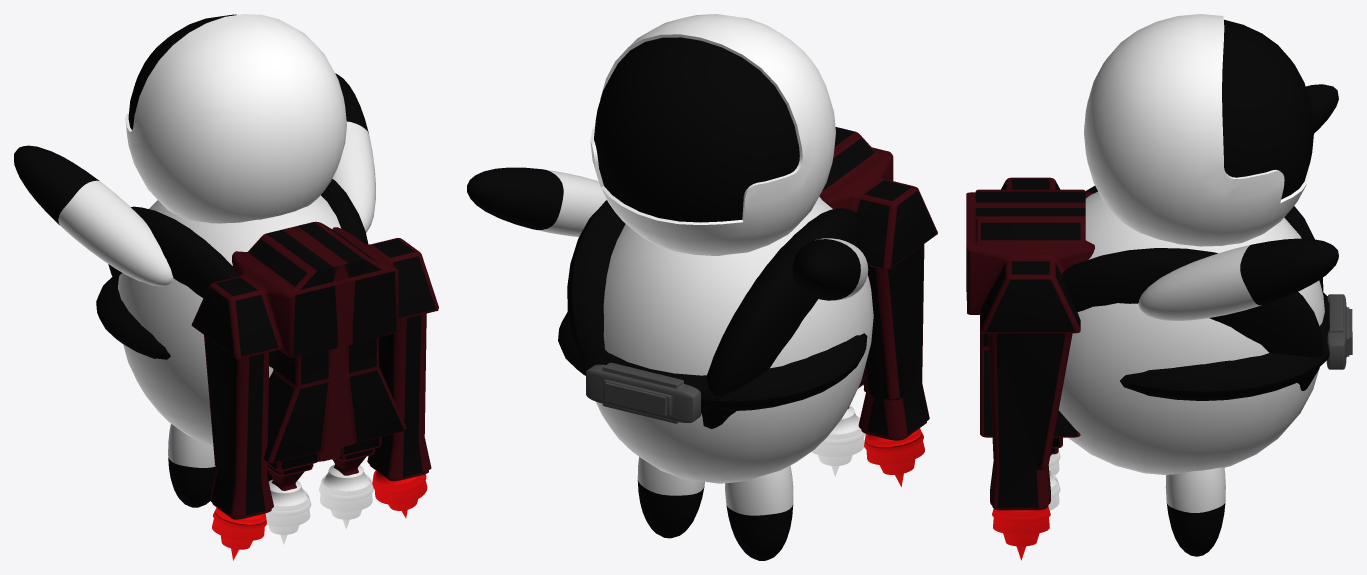
Rendered from AstronautFlame.glb.
3 renders of one model, left to right at view 1: azimuth 30°, elevation 25°; view 2: azimuth 150°, elevation 25°; view 3: azimuth 270°, elevation 25°, orthographic. The views are drawn at different scales.
Visible parts, largest first — view 1: Cube.007, Cube.001, Cube.005, Cube.002, Cube.008, Cube.004, Cube.010, Sphere, Sphere.001, Sphere.002, Sphere.003, Cube.003; view 2: Cube.002, Cube.003, Cube.007, Cube.001, Cube.008, Cube.005, Cube.004, Cube.010, Cube.009, Sphere.002, Sphere.001; view 3: Cube.001, Cube.002, Cube.007, Cube.003, Cube.005, Cube.008, Cube.010, Cube.004, Sphere.003, Cube.009.
Boxes of the visible parts, box(x1,y1,x2,y2) form: Cube.007: box(191, 221, 438, 519); Cube.001: box(125, 14, 346, 223); Cube.005: box(14, 73, 375, 286); Cube.002: box(118, 195, 341, 446); Cube.008: box(108, 179, 368, 368); Cube.004: box(168, 424, 272, 507); Cube.010: box(96, 277, 170, 359); Sphere: box(319, 464, 373, 529); Sphere.001: box(265, 479, 311, 544); Sphere.002: box(212, 507, 266, 560); Sphere.003: box(372, 470, 427, 517); Cube.003: box(128, 14, 236, 129); Cube.002: box(596, 196, 873, 483); Cube.003: box(594, 37, 799, 222); Cube.007: box(819, 127, 937, 440); Cube.001: box(590, 14, 835, 255); Cube.008: box(567, 200, 862, 428); Cube.005: box(467, 167, 868, 300); Cube.004: box(637, 457, 793, 560); Cube.010: box(558, 312, 867, 410); Cube.009: box(586, 362, 700, 423); Sphere.002: box(864, 428, 924, 486); Sphere.001: box(811, 406, 865, 476); Cube.001: box(1084, 14, 1309, 246); Cube.002: box(1058, 191, 1324, 475); Cube.007: box(966, 177, 1094, 510); Cube.003: box(1222, 19, 1313, 199); Cube.005: box(1138, 84, 1338, 320); Cube.008: box(1062, 186, 1323, 390); Cube.010: box(1120, 292, 1329, 400); Cube.004: box(1165, 467, 1225, 556); Sphere.003: box(992, 506, 1050, 560); Cube.009: box(1326, 294, 1352, 369).
Bounding box in the file's own units: 2.94 × 4.02 × 2.77.
